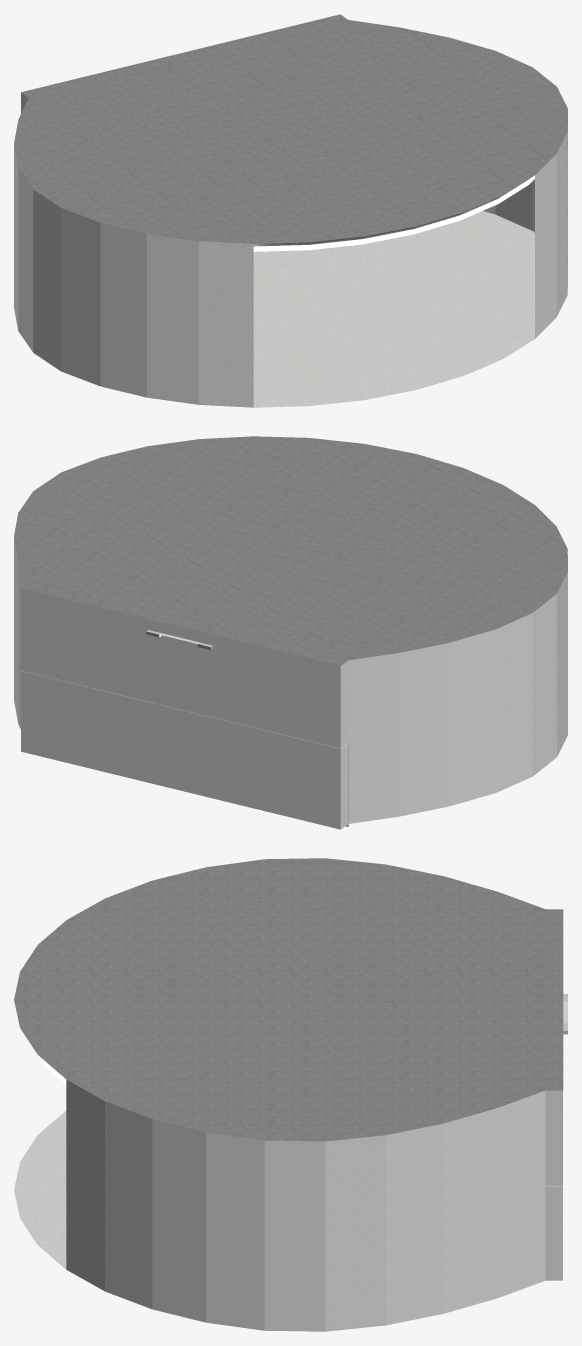
Rendered from lobby optimized.glb.
3 views of the same model, one above another, from view 1: azimuth 30°, elevation 25°; view 2: azimuth 150°, elevation 25°; view 3: azimuth 270°, elevation 25° (orthographic). The views are drawn at different scales.
Parts seen in each view (by area): view 1: top layer, lb main wall.001, floor, ceiling; view 2: top layer, lb main wall.001; view 3: top layer, lb main wall.001, floor.
Boxes of the visible parts, bbox=[...] form: top layer: bbox=[14, 14, 567, 243]; lb main wall.001: bbox=[14, 93, 567, 407]; floor: bbox=[253, 211, 534, 407]; ceiling: bbox=[253, 175, 534, 251]; top layer: bbox=[14, 436, 567, 665]; lb main wall.001: bbox=[14, 537, 567, 829]; top layer: bbox=[14, 858, 563, 1141]; lb main wall.001: bbox=[66, 1079, 562, 1331]; floor: bbox=[14, 1111, 66, 1269].
Bounding box in the file's own units: 25.81 × 8.24 × 21.34.
22 materials, 12 textured.
